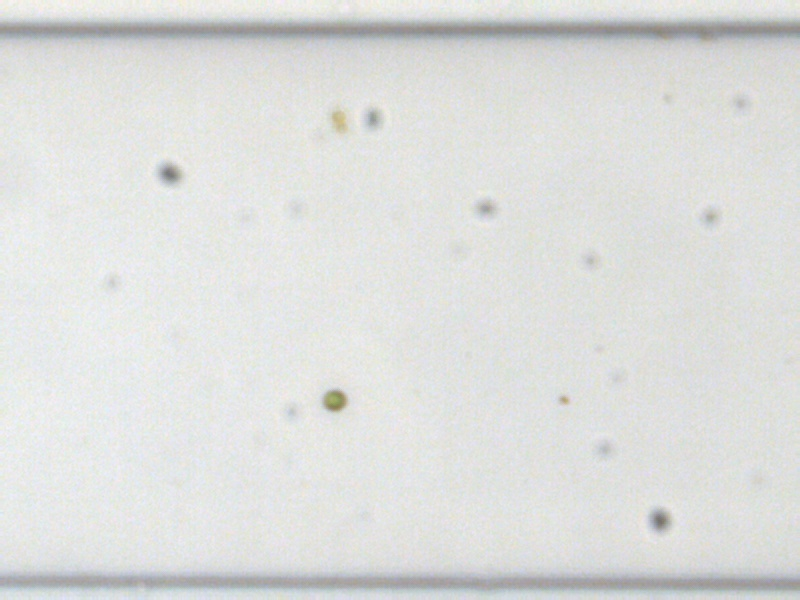Chlorella: (322, 389, 347, 410), (330, 109, 346, 122), (558, 393, 570, 405), (334, 122, 347, 133)
